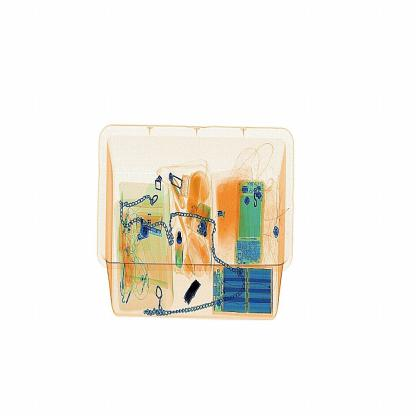scissors: (182, 278, 203, 310)
